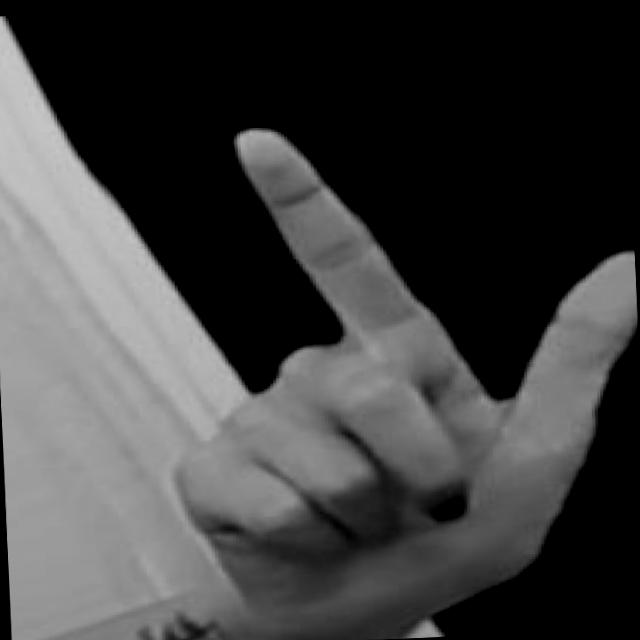L: (137, 82, 639, 640)
